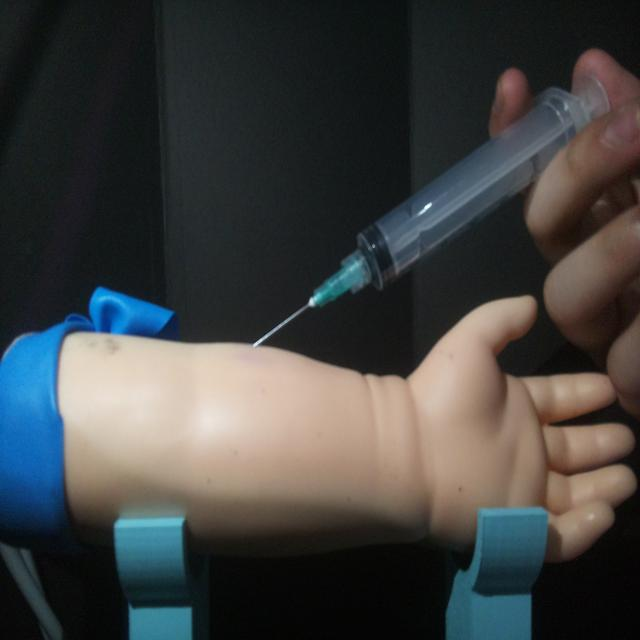30deg: (247, 69, 612, 351)
